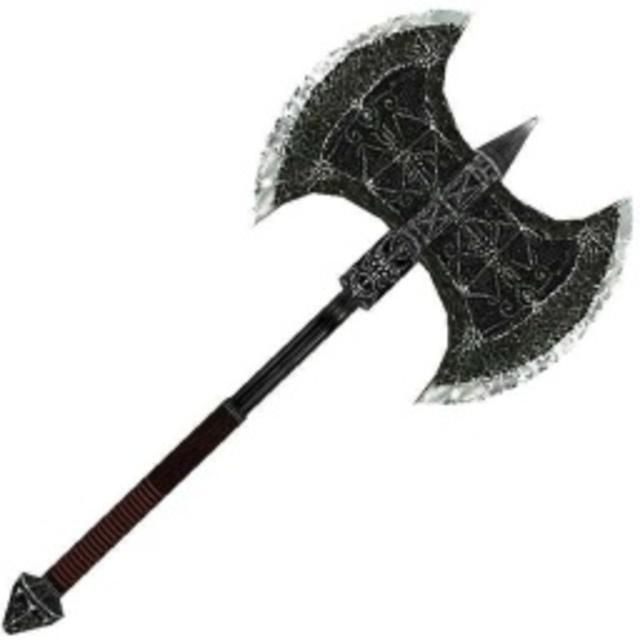ax: (4, 4, 636, 637)
